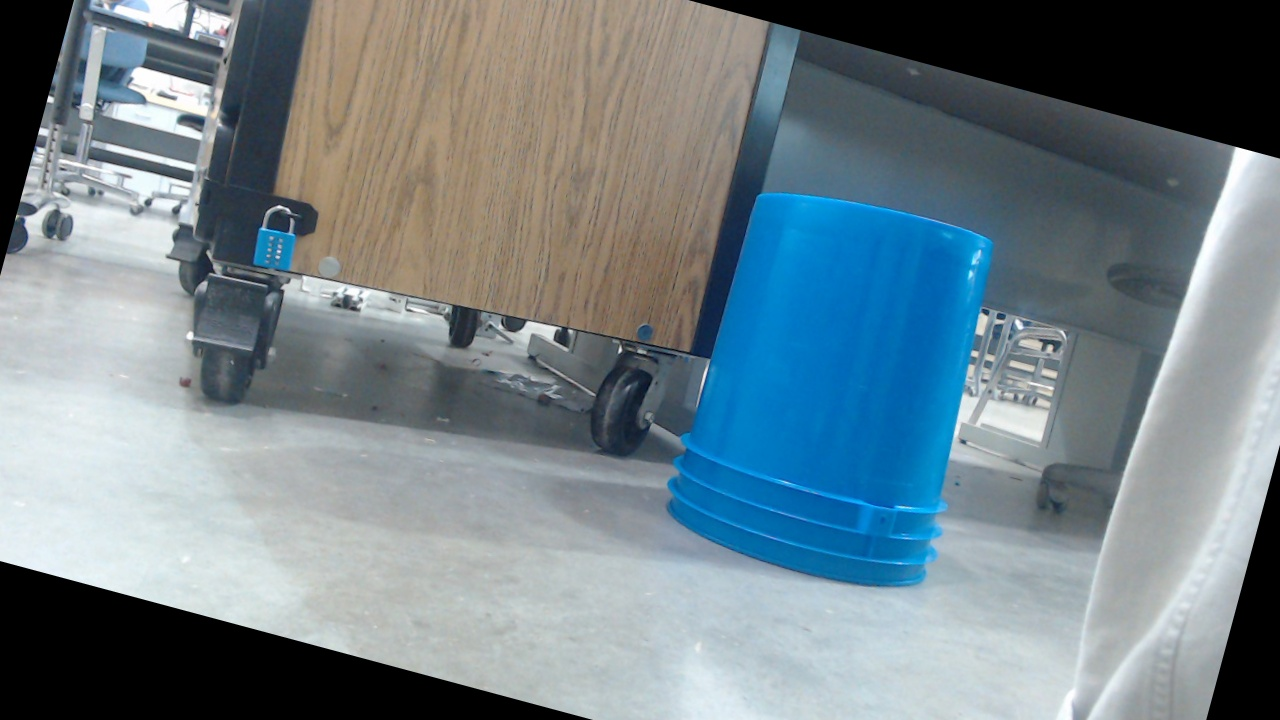blue_bucket: (640, 63, 1022, 514)
